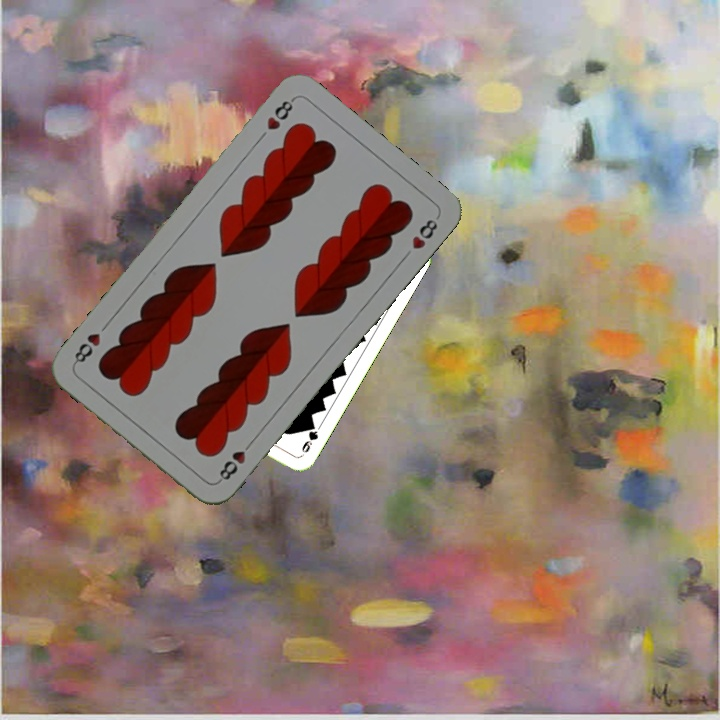G9: (297, 420, 321, 458)
H8: (215, 436, 256, 485), (262, 94, 297, 133)
